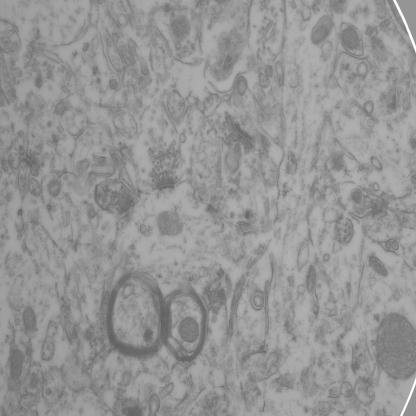mitochondria: (374, 308, 416, 379), (308, 10, 334, 48), (154, 208, 185, 238), (338, 22, 362, 52), (178, 314, 200, 344), (8, 346, 26, 380), (22, 306, 39, 336)
